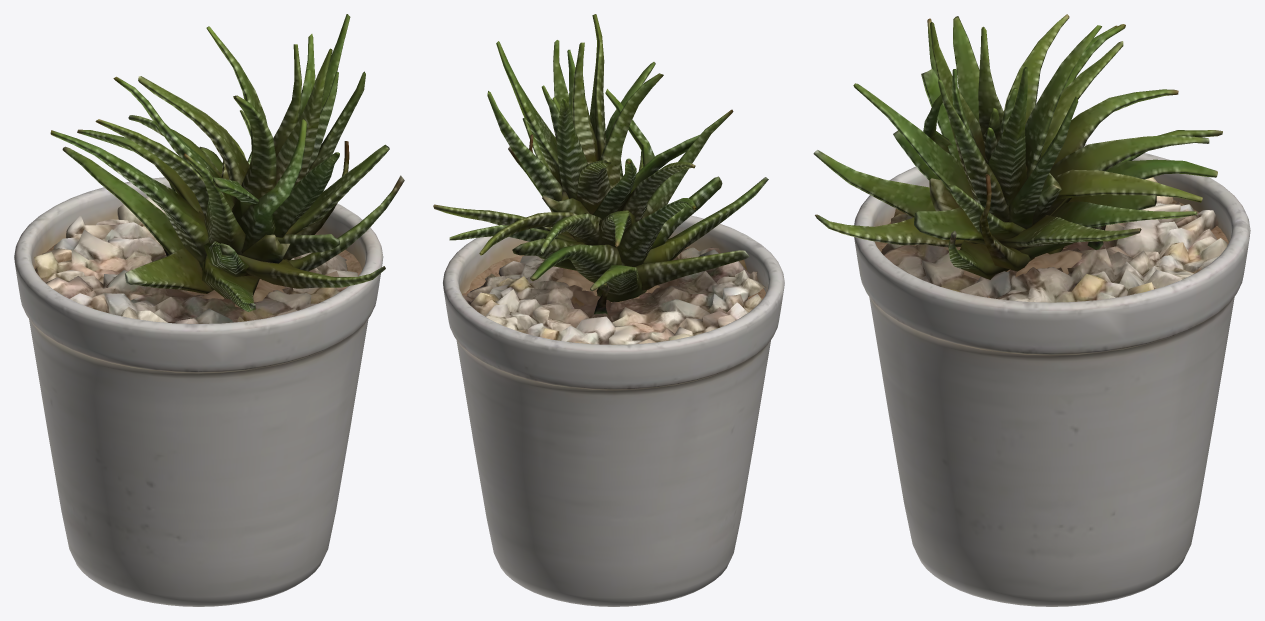
File: potted_plant_04.glb
The picture shows the model from 3 angles, left to right: view 1: azimuth 30°, elevation 25°; view 2: azimuth 150°, elevation 25°; view 3: azimuth 270°, elevation 25°; orthographic projection. The views are drawn at different scales.
Parts seen in each view (by area): view 1: potted_plant_04_ground; view 2: potted_plant_04_ground; view 3: potted_plant_04_ground.
Boxes of the visible parts, x1,y1,x2,y2 form: potted_plant_04_ground: (14, 14, 404, 606); potted_plant_04_ground: (433, 14, 784, 606); potted_plant_04_ground: (813, 14, 1250, 606).
Bounding box in the file's own units: 0.1679 × 0.2675 × 0.1848.
1 material, 1 textured.
